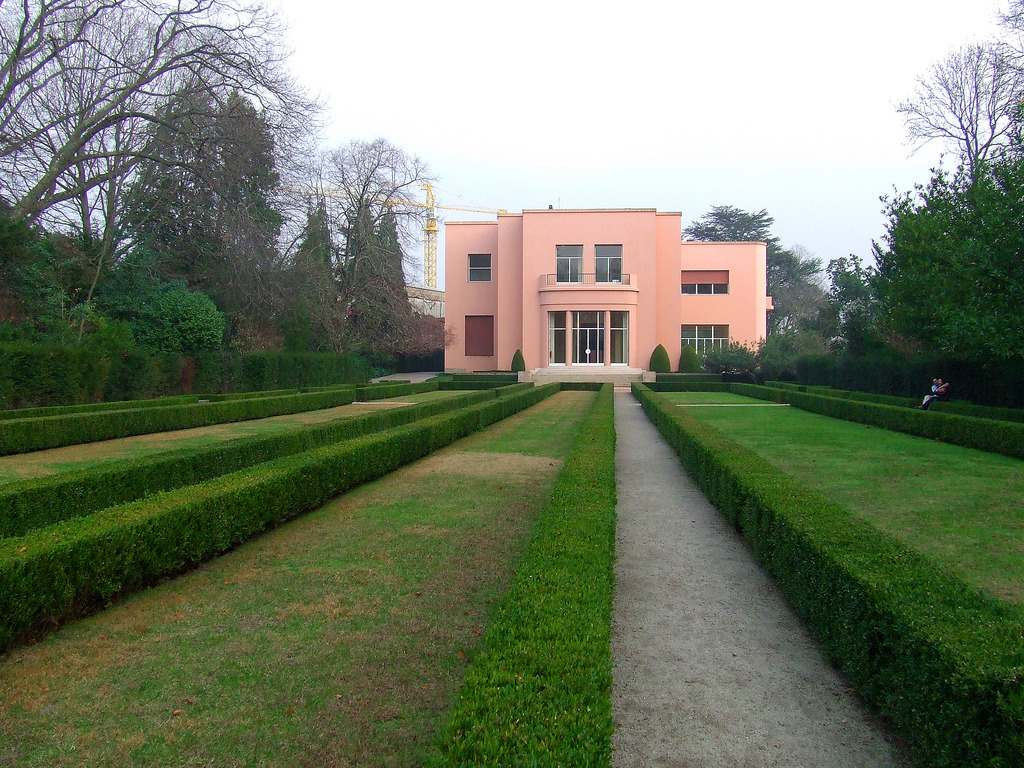serralves: (449, 207, 774, 372)
